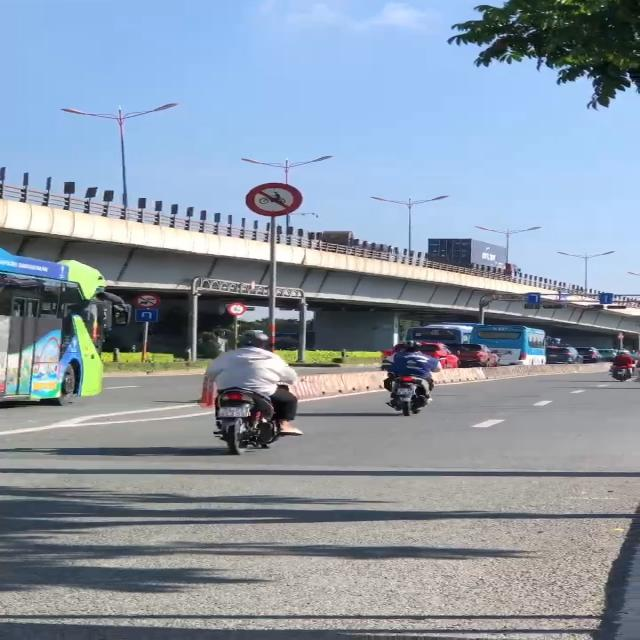Bien bao cam xe may: (244, 178, 310, 219)
Bien bao cam xe oto khach va xe oto tai: (132, 292, 162, 308)
